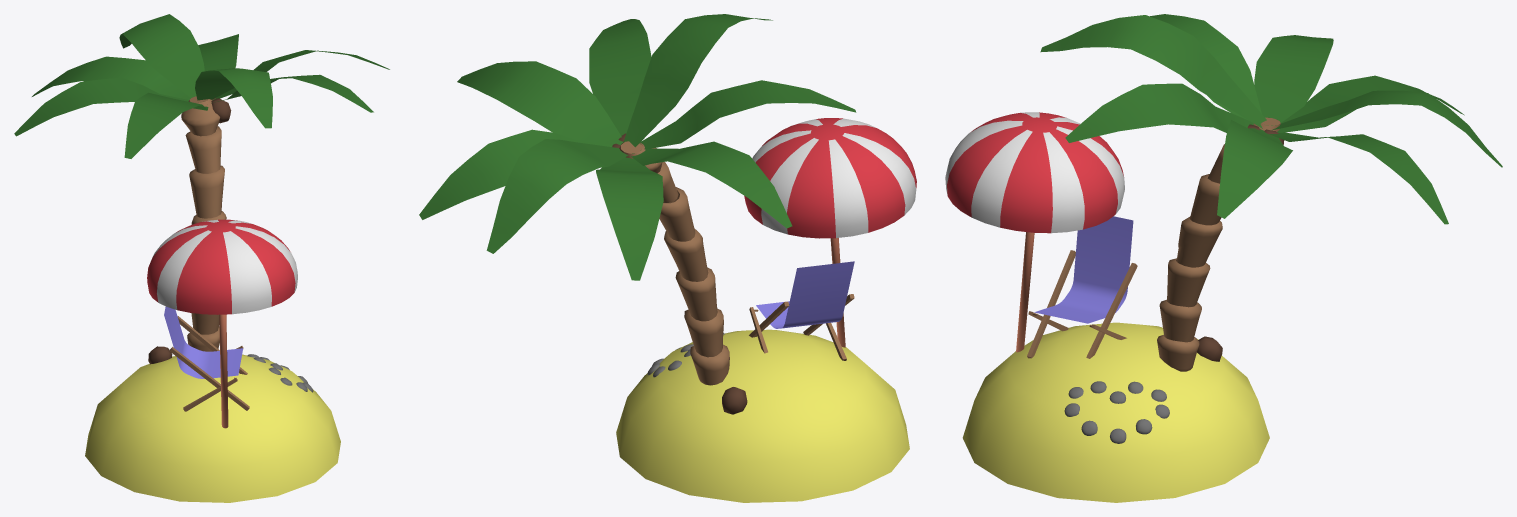
Rendered from IslaTropical_Pequeña.fbx.
3 views of the same model, side by side, from view 1: azimuth 30°, elevation 25°; view 2: azimuth 150°, elevation 25°; view 3: azimuth 270°, elevation 25° (orthographic). The views are drawn at different scales.
Parts seen in each view (by area): view 1: isla pequeña; view 2: isla pequeña; view 3: isla pequeña.
Part boxes in pixels (bbox=[...]): isla pequeña: bbox=[14, 14, 389, 502]; isla pequeña: bbox=[419, 14, 916, 502]; isla pequeña: bbox=[945, 14, 1502, 502].
Bounding box in the file's own units: 378 × 396 × 461.
